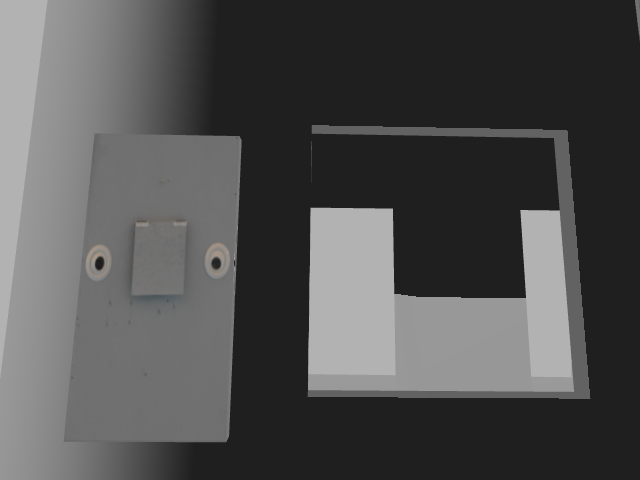facade: (84, 219, 230, 297)
